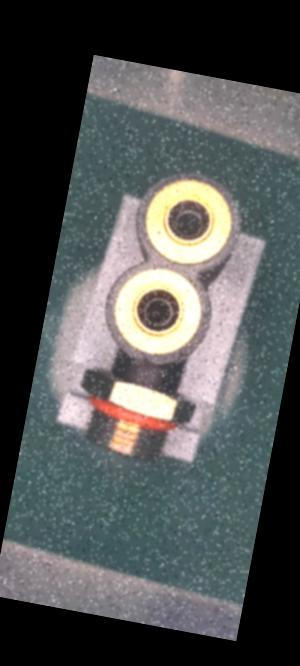bump: (167, 342, 199, 369), (133, 348, 155, 365)
white mark: (135, 374, 145, 387)
